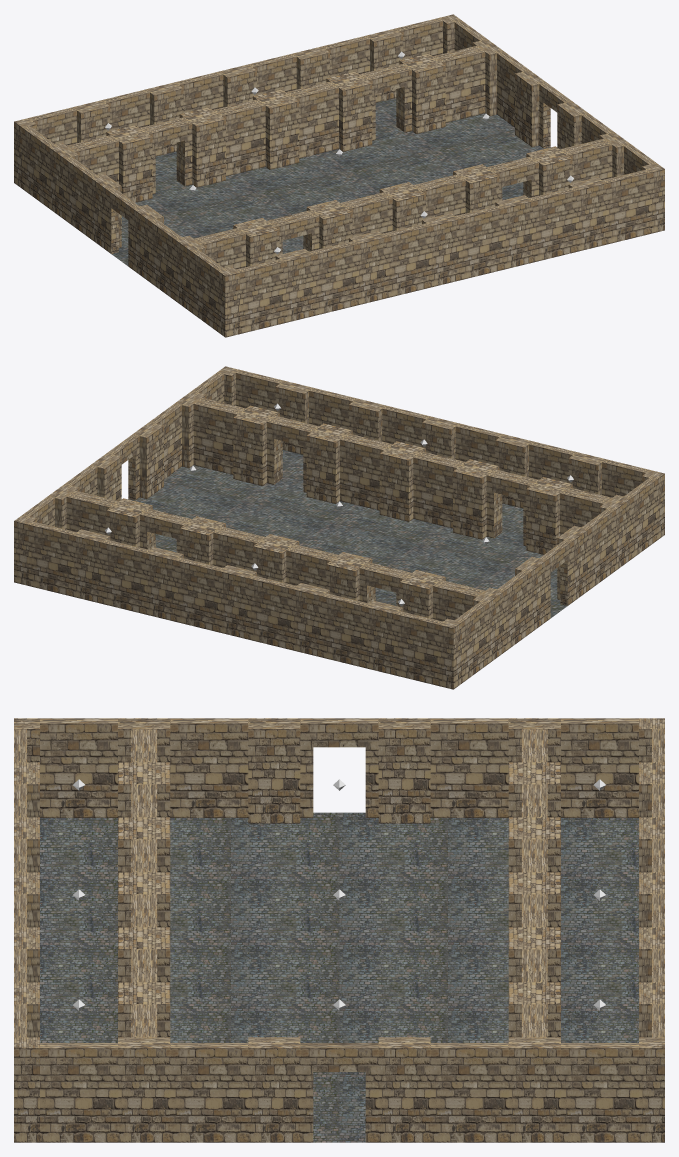
File: 1_corWithSideWalls.fbx
3 views of the same model, one above another, from view 1: azimuth 30°, elevation 25°; view 2: azimuth 150°, elevation 25°; view 3: azimuth 270°, elevation 25° (orthographic). The views are drawn at different scales.
Visible parts, largest first — view 1: Cube_1, Plane; view 2: Cube_1, Plane; view 3: Cube_1, Plane.
Part boxes in pixels (x1,y1,x2,y2): Cube_1: [14, 14, 664, 337]; Plane: [111, 98, 550, 265]; Cube_1: [14, 366, 664, 689]; Plane: [128, 450, 567, 617]; Cube_1: [14, 718, 664, 1142]; Plane: [40, 812, 638, 1142].
Bounding box in the file's own units: 60 × 8 × 50.
3 materials, 3 textured.
